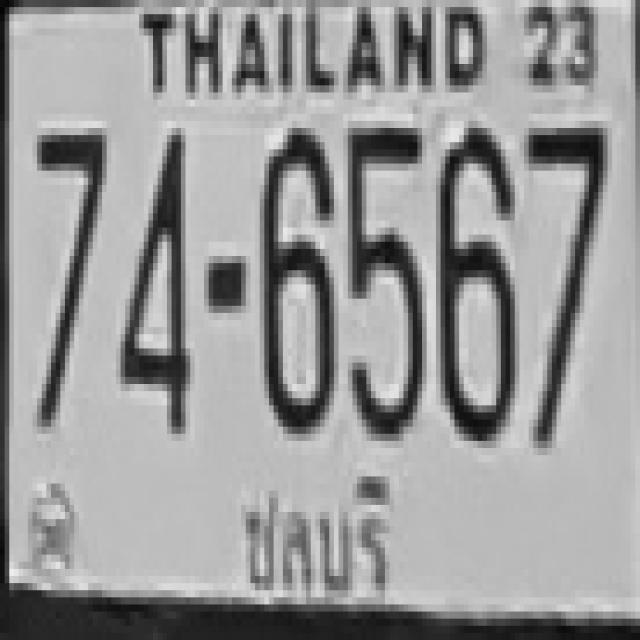4: (116, 121, 185, 427)
5: (343, 121, 422, 434)
6: (433, 121, 512, 434), (258, 121, 332, 427)
7: (524, 121, 603, 441), (32, 125, 102, 423), (524, 121, 603, 348), (32, 124, 102, 330)
Chonburi: (233, 468, 396, 612)
